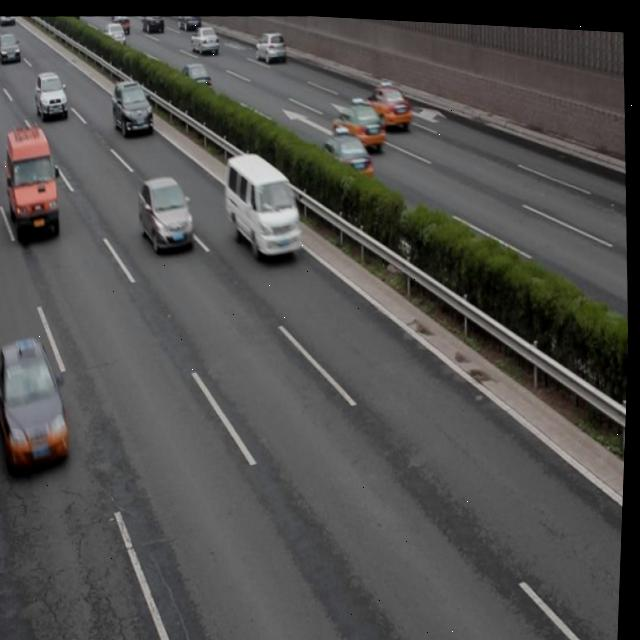car: (0, 338, 77, 476), (137, 173, 197, 253), (316, 122, 375, 182), (333, 92, 388, 149), (362, 73, 414, 128), (113, 77, 155, 135), (34, 70, 71, 121), (178, 60, 212, 92), (255, 27, 287, 60), (190, 22, 217, 52), (102, 20, 127, 47), (0, 32, 21, 62), (140, 14, 164, 34), (111, 14, 131, 34), (178, 13, 199, 30)
truck: (222, 145, 306, 258), (5, 124, 63, 238)
